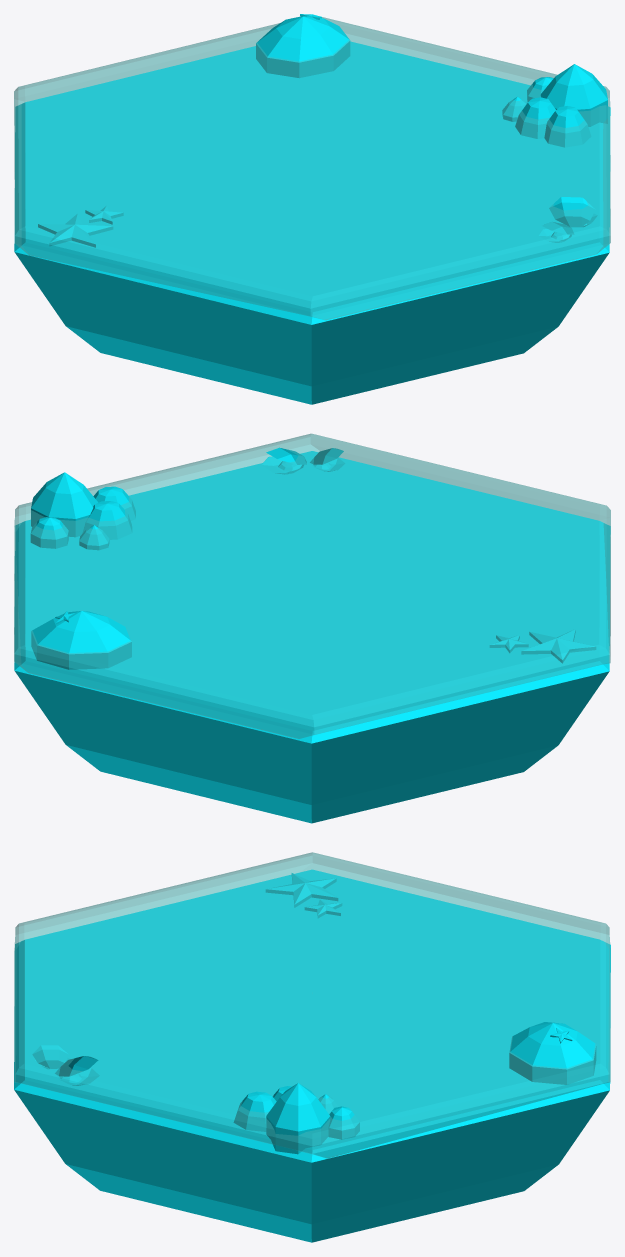
Rendered from Asset_Biome_Beach_03.fbx.
3 views of the same model, one above another, from view 1: azimuth 30°, elevation 25°; view 2: azimuth 150°, elevation 25°; view 3: azimuth 270°, elevation 25° (orthographic).
Visible parts, largest first — view 1: Asset_Tile_Sand, Asset_Tile_Water, PolySurface_Rock_02, PolySurface_Rock_01, PolySurface_Rock_05, PolySurface_Rock_08, PolySurface_Star_02, PolySurface_Sea_shell_04, PolySurface_Sea_shell_03; view 2: Asset_Tile_Sand, Asset_Tile_Water, PolySurface_Rock_02, PolySurface_Rock_01, PolySurface_Rock_08, PolySurface_Star_02, PolySurface_Rock_04, PolySurface_Sea_shell_04, PolySurface_Rock_05, PolySurface_Sea_shell_03, PolySurface_Rock_03; view 3: Asset_Tile_Sand, Asset_Tile_Water, PolySurface_Rock_02, PolySurface_Rock_01, PolySurface_Rock_05, PolySurface_Star_02, PolySurface_Sea_shell_04, PolySurface_Rock_04, PolySurface_Sea_shell_03.
Boxes of the visible parts, x1,y1,x2,y2 form: Asset_Tile_Sand: (14, 41, 610, 404); Asset_Tile_Water: (14, 17, 610, 320); PolySurface_Rock_02: (256, 16, 350, 77); PolySurface_Rock_01: (540, 64, 607, 126); PolySurface_Rock_05: (544, 106, 591, 147); PolySurface_Rock_08: (515, 97, 555, 138); PolySurface_Star_02: (38, 214, 113, 247); PolySurface_Sea_shell_04: (549, 197, 598, 227); PolySurface_Sea_shell_03: (538, 222, 574, 242); Asset_Tile_Sand: (14, 451, 610, 823); Asset_Tile_Water: (14, 433, 610, 738); PolySurface_Rock_02: (31, 611, 131, 669); PolySurface_Rock_01: (31, 472, 98, 537); PolySurface_Rock_08: (82, 501, 132, 539); PolySurface_Star_02: (521, 629, 596, 663); PolySurface_Rock_04: (30, 517, 68, 548); PolySurface_Sea_shell_04: (261, 447, 306, 474); PolySurface_Rock_05: (93, 486, 135, 520); PolySurface_Sea_shell_03: (310, 448, 345, 471); PolySurface_Rock_03: (79, 525, 109, 550); Asset_Tile_Sand: (14, 869, 610, 1242); Asset_Tile_Water: (14, 852, 610, 1158); PolySurface_Rock_02: (509, 1022, 596, 1084); PolySurface_Rock_01: (266, 1083, 330, 1154); PolySurface_Rock_05: (233, 1091, 276, 1131); PolySurface_Star_02: (265, 873, 338, 907); PolySurface_Sea_shell_04: (55, 1056, 100, 1085); PolySurface_Rock_04: (328, 1106, 359, 1139); PolySurface_Sea_shell_03: (32, 1045, 70, 1069).
Bounding box in the file's own units: 436 × 135 × 378.
